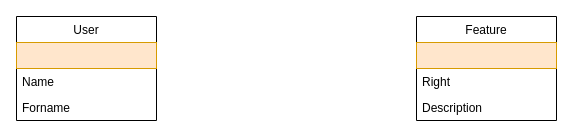
Image size: 573x137. Some labels were removed from this diagram. The centre of each missing label's shape, as x and y in pixels:
"Id" goes at (x=486, y=55).
"Login" goes at (x=86, y=55).
